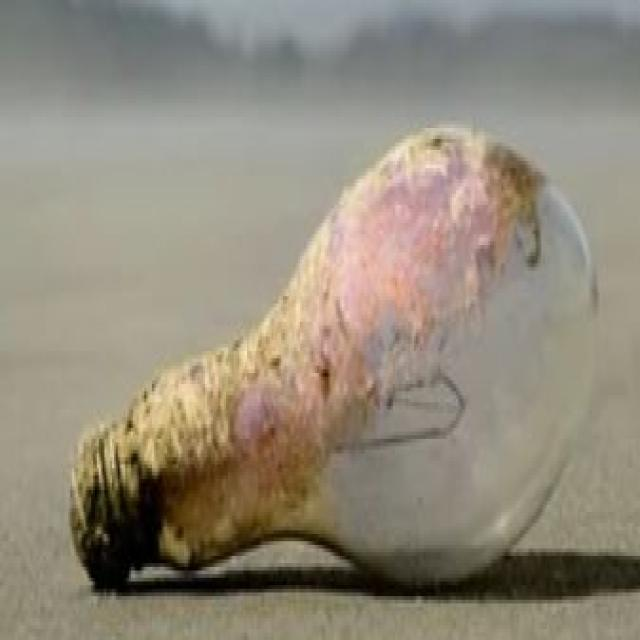electronic: (68, 117, 600, 592)
